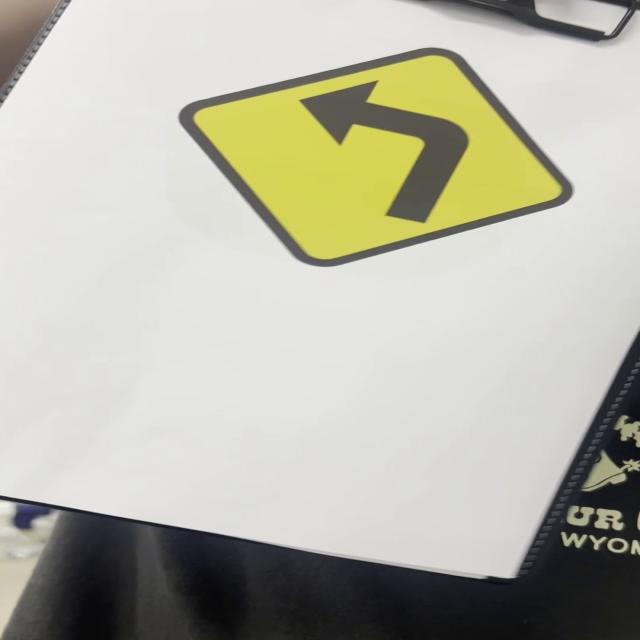left: (191, 48, 574, 264)
